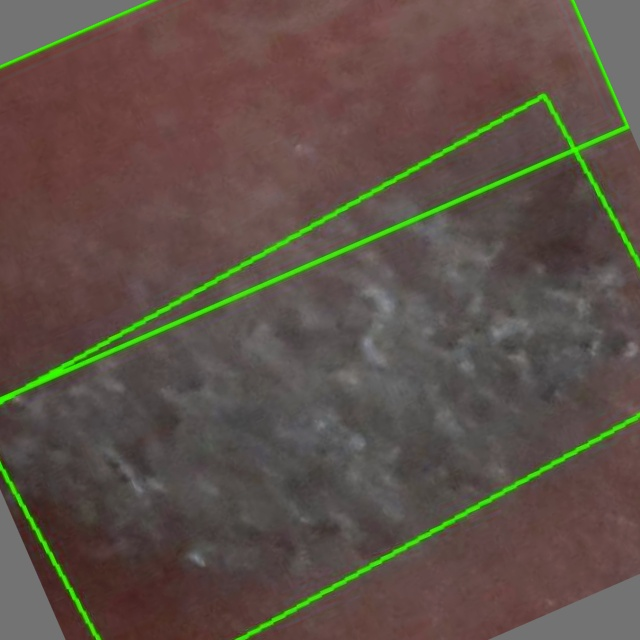Eczema: (0, 96, 639, 639), (0, 0, 628, 400)
